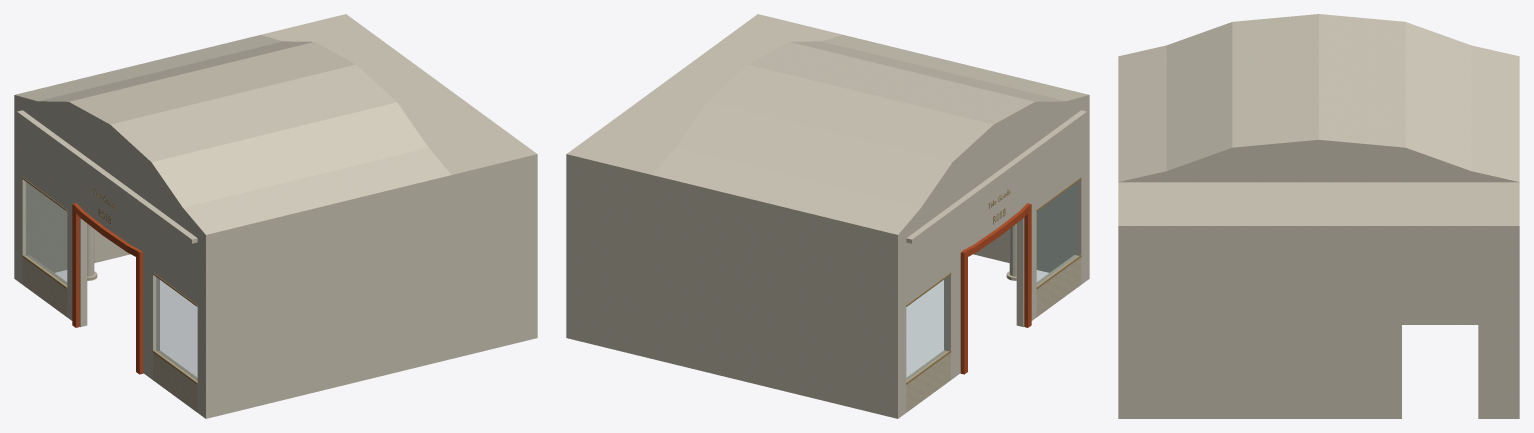
File: SHOP_D09_P72_A184__shell.glb
3 views of the same model, side by side, from view 1: azimuth 30°, elevation 25°; view 2: azimuth 150°, elevation 25°; view 3: azimuth 270°, elevation 25° (orthographic). The views are drawn at different scales.
Parts seen in each view (by area): view 1: SHOP_D09_P72_A184__shell__ivory_enamel, SHOP_D09_P72_A184__shell__shop_glass, SHOP_D09_P72_A184__shell__warm_stone, SHOP_D09_P72_A184__shell__retail_terracotta_enamel, SHOP_D09_P72_A184__shell__champagne_metal; view 2: SHOP_D09_P72_A184__shell__ivory_enamel, SHOP_D09_P72_A184__shell__shop_glass, SHOP_D09_P72_A184__shell__warm_stone, SHOP_D09_P72_A184__shell__retail_terracotta_enamel, SHOP_D09_P72_A184__shell__champagne_metal; view 3: SHOP_D09_P72_A184__shell__ivory_enamel.
Boxes of the visible parts, x1,y1,x2,y2 form: SHOP_D09_P72_A184__shell__ivory_enamel: (14, 14, 537, 418); SHOP_D09_P72_A184__shell__shop_glass: (26, 182, 197, 380); SHOP_D09_P72_A184__shell__warm_stone: (22, 255, 197, 412); SHOP_D09_P72_A184__shell__retail_terracotta_enamel: (72, 203, 143, 374); SHOP_D09_P72_A184__shell__champagne_metal: (22, 177, 197, 384); SHOP_D09_P72_A184__shell__ivory_enamel: (566, 14, 1089, 418); SHOP_D09_P72_A184__shell__shop_glass: (906, 182, 1077, 380); SHOP_D09_P72_A184__shell__warm_stone: (906, 255, 1081, 412); SHOP_D09_P72_A184__shell__retail_terracotta_enamel: (960, 203, 1031, 374); SHOP_D09_P72_A184__shell__champagne_metal: (906, 177, 1081, 384); SHOP_D09_P72_A184__shell__ivory_enamel: (1118, 14, 1519, 418).
Bounding box in the file's own units: 11.86 × 7.5 × 11.6.
6 materials, 4 textured.
